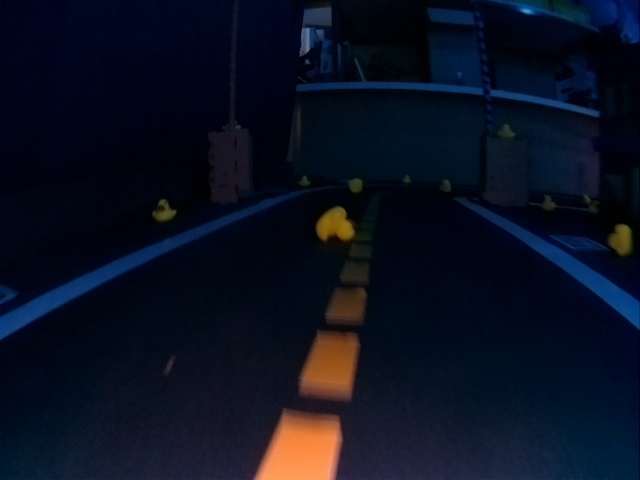Duckie: (318, 208, 354, 240), (610, 227, 631, 254), (153, 200, 176, 221), (499, 123, 514, 136), (541, 197, 556, 209), (350, 178, 363, 191), (440, 179, 450, 192), (299, 176, 309, 185)
